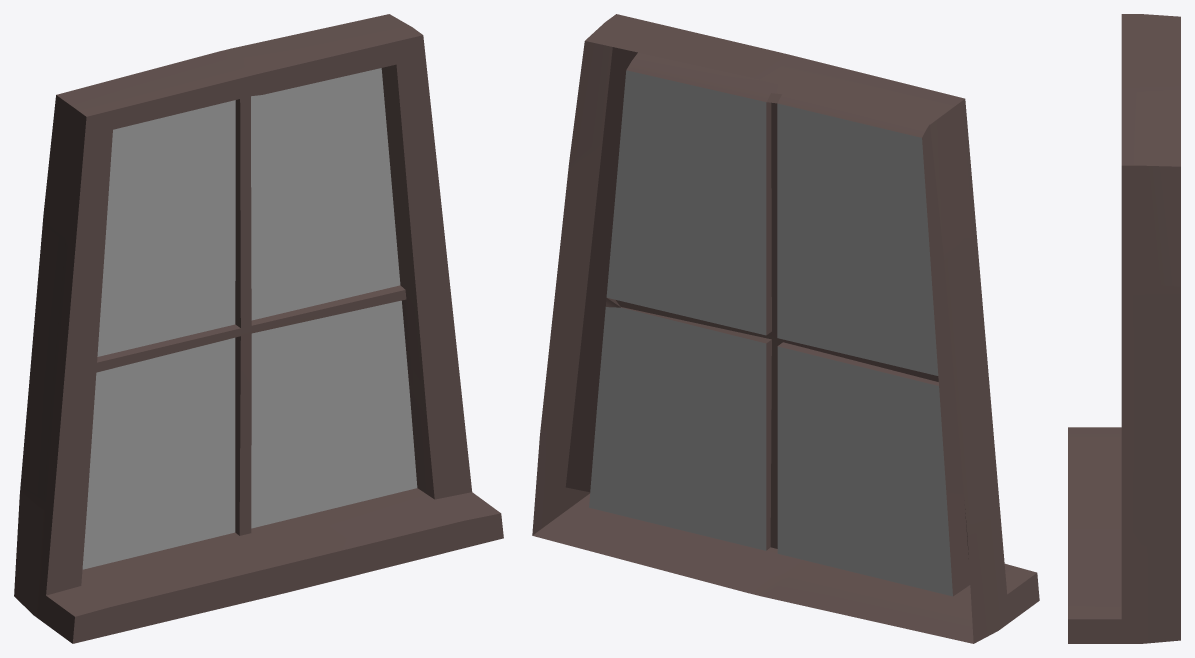
Rendered from Module_Building_Window_TaperDown.fbx.
The picture shows the model from 3 angles, left to right: view 1: azimuth 30°, elevation 25°; view 2: azimuth 150°, elevation 25°; view 3: azimuth 270°, elevation 25°; orthographic projection. The views are drawn at different scales.
Parts seen in each view (by area): view 1: Module_Building_Window_TaperDown; view 2: Module_Building_Window_TaperDown; view 3: Module_Building_Window_TaperDown.
Part boxes in pixels (bbox=[...]): Module_Building_Window_TaperDown: bbox=[14, 14, 503, 643]; Module_Building_Window_TaperDown: bbox=[532, 14, 1039, 643]; Module_Building_Window_TaperDown: bbox=[1068, 14, 1180, 643].
Size of the model in its own units: 72.92 by 80.59 by 17.93.
